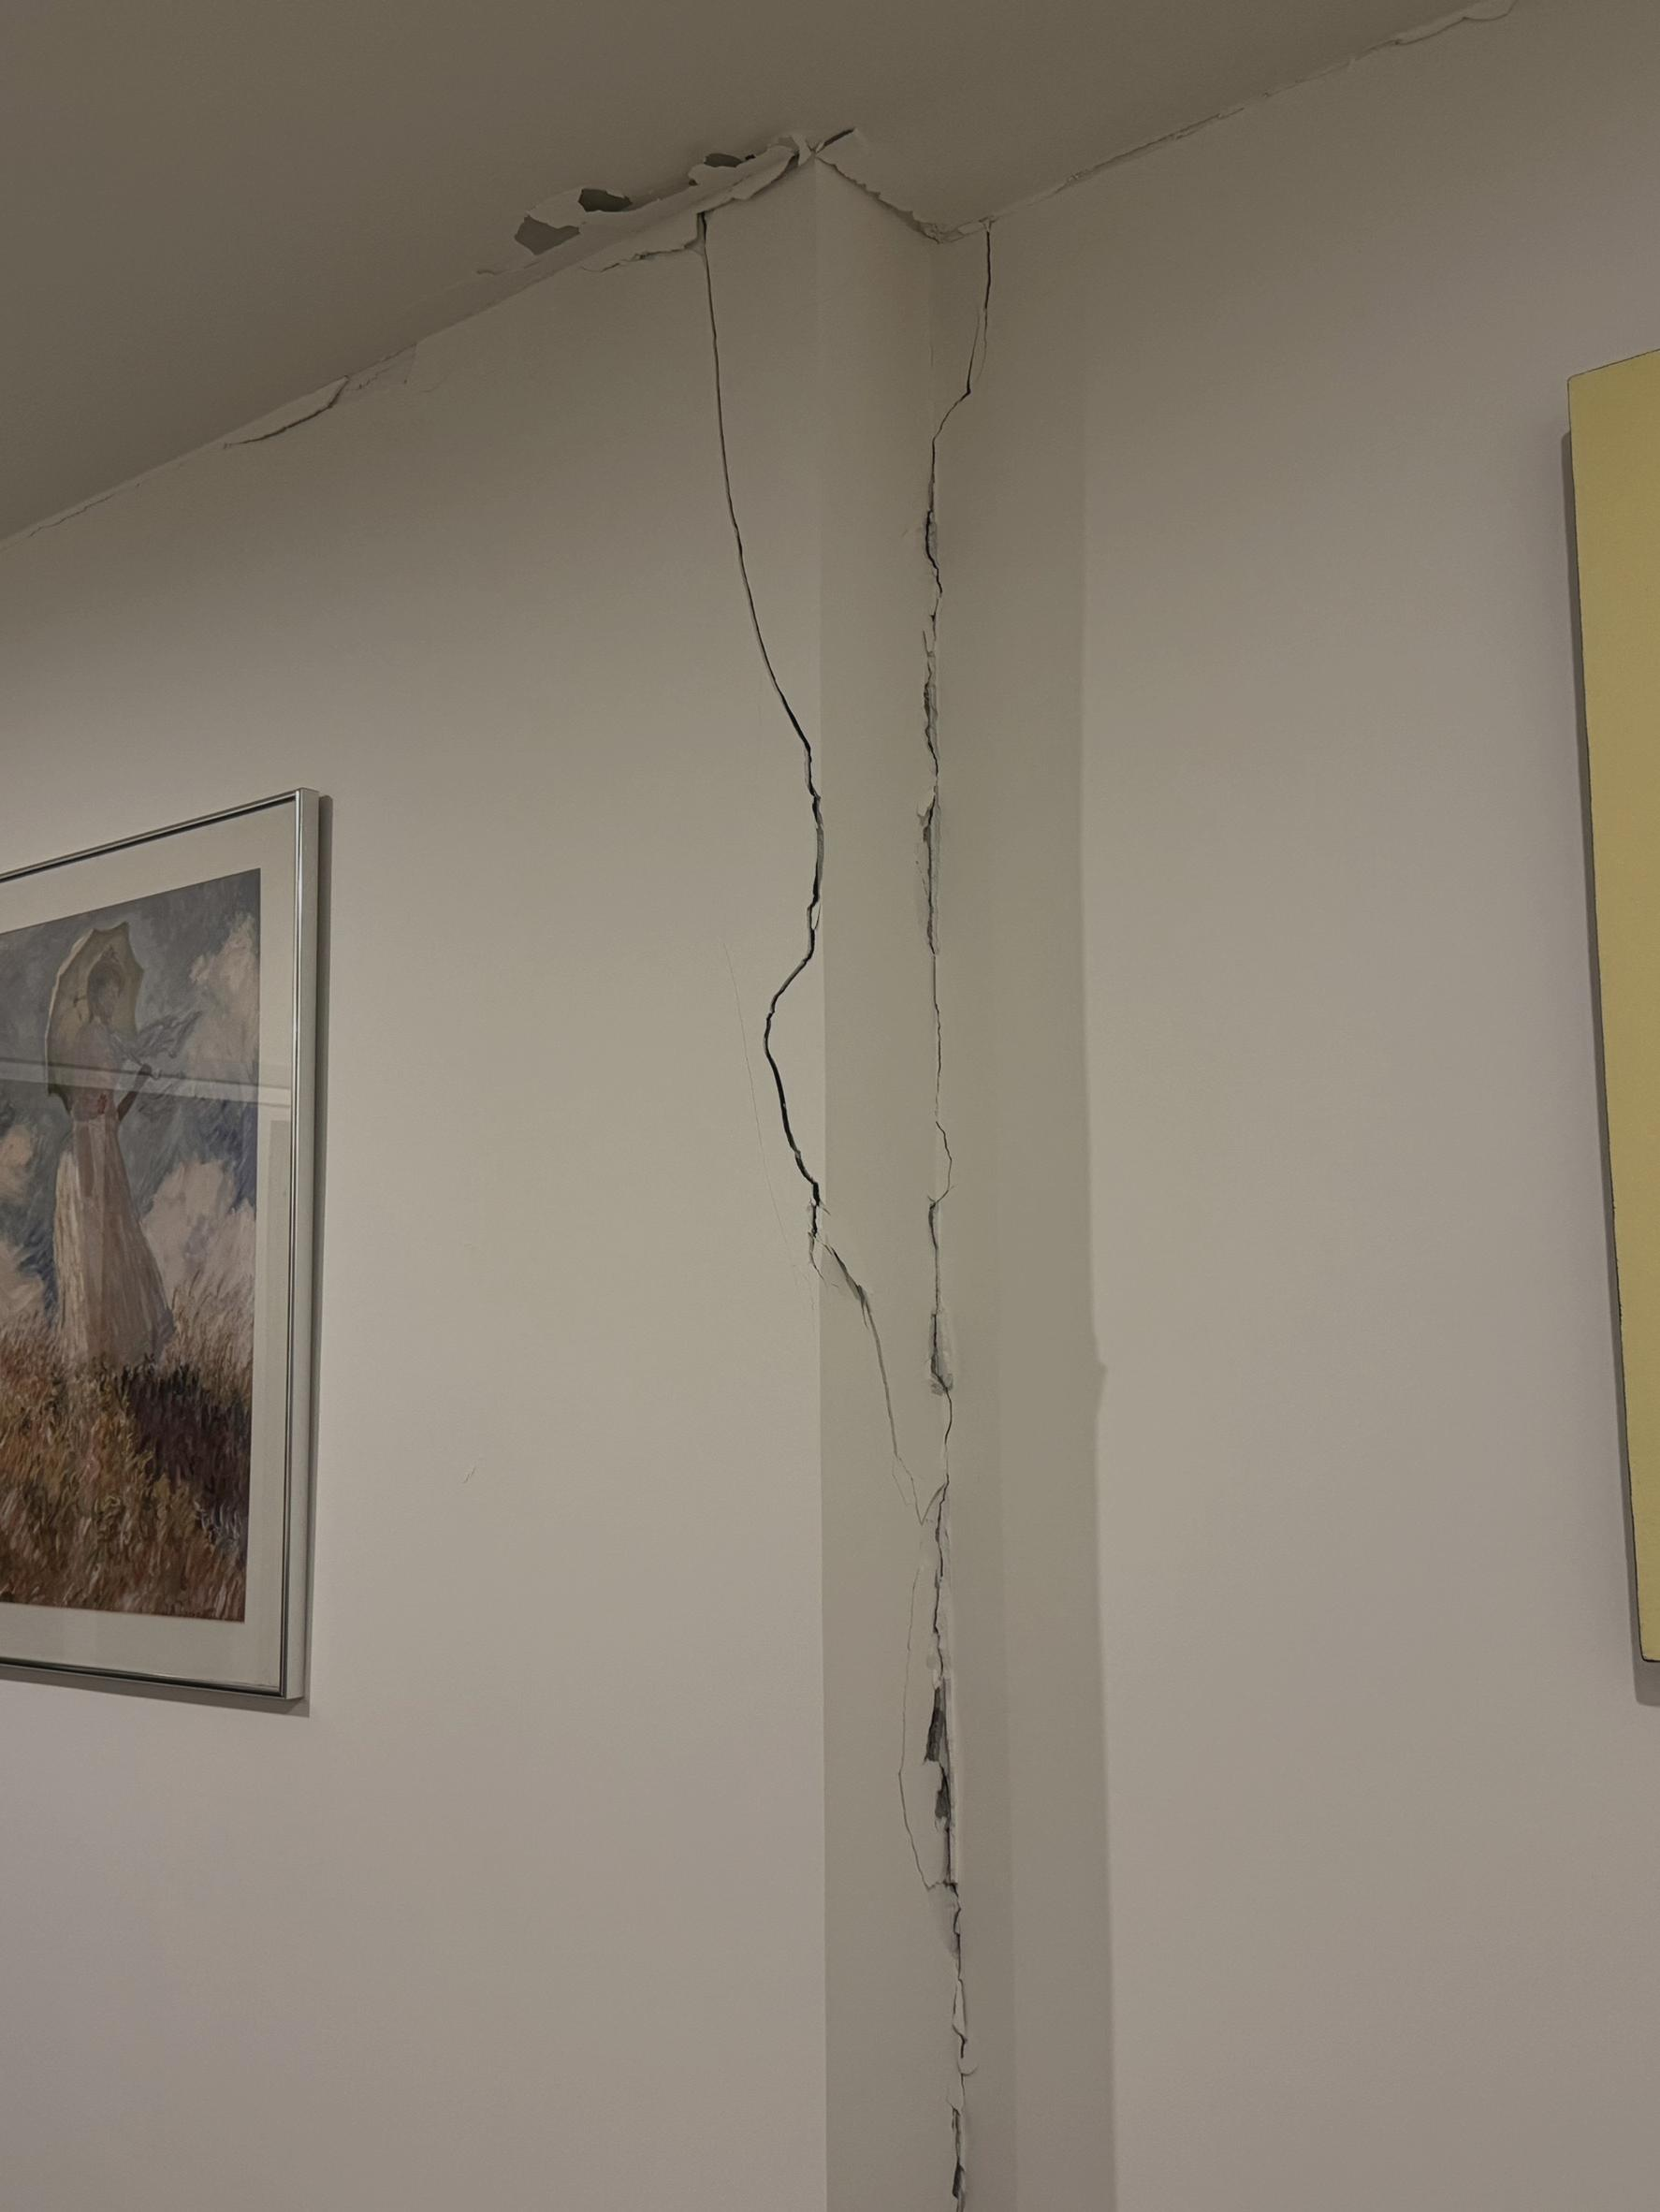High: (375, 85, 1132, 2205)
